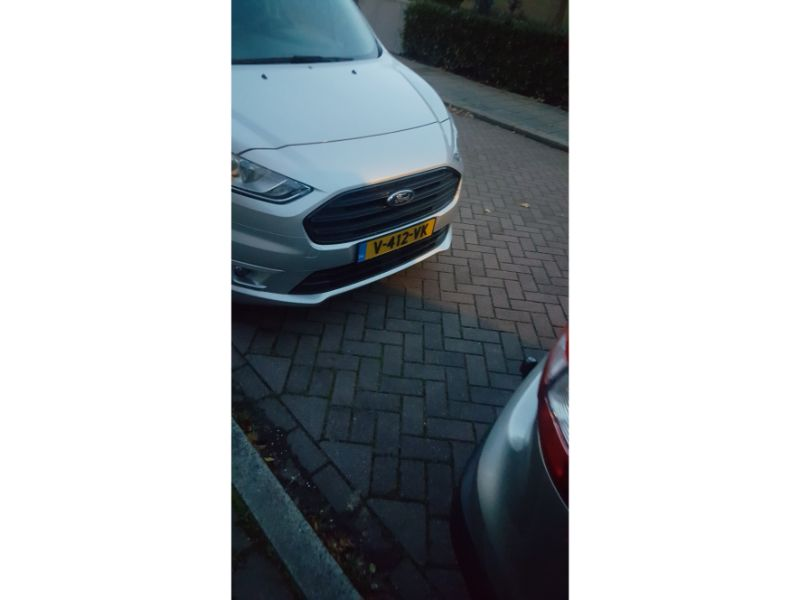kenteken: (358, 218, 436, 261)
